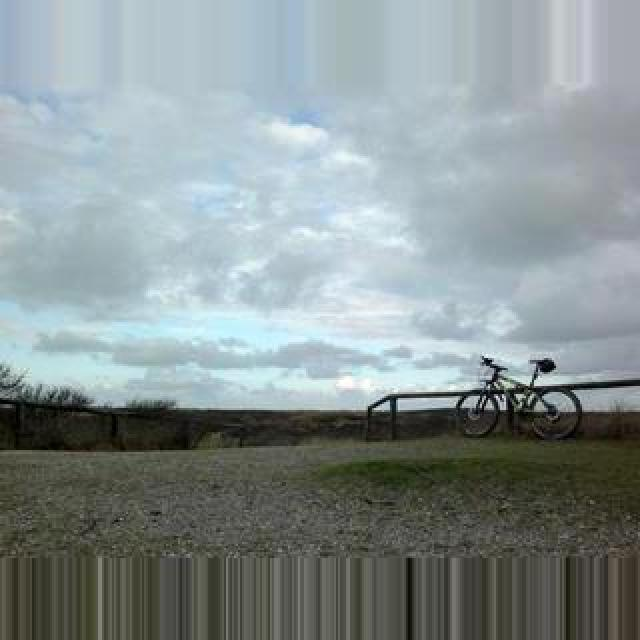Person: (455, 355, 583, 441)
